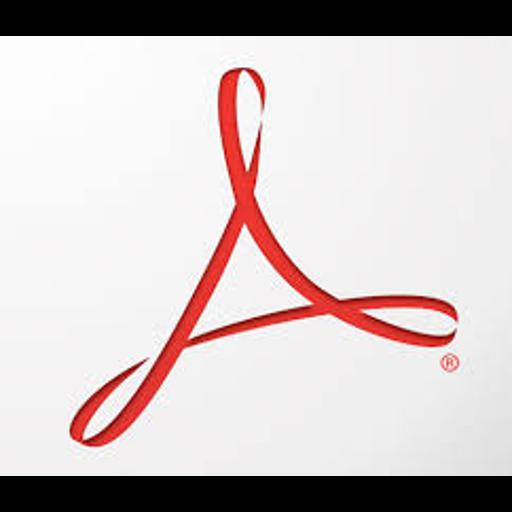Adobe: (0, 36, 512, 476)
